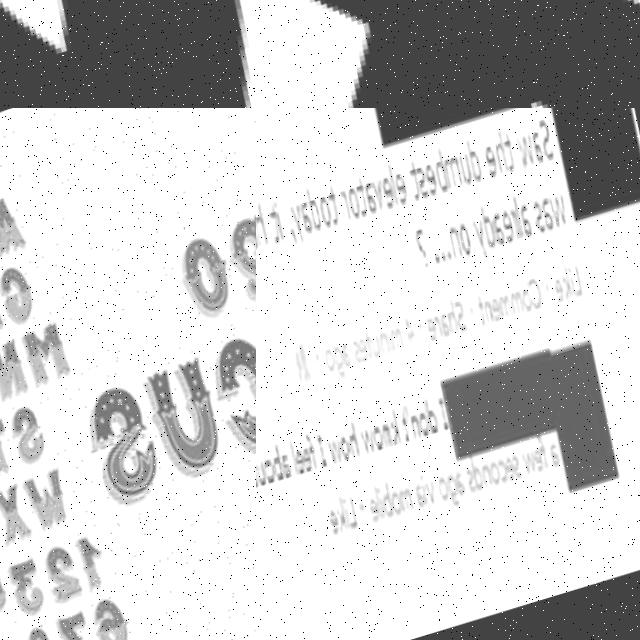1: (82, 531, 120, 588)
2: (46, 538, 99, 603)
3: (12, 553, 63, 615)
4: (0, 570, 27, 630), (405, 312, 426, 350)
6: (95, 591, 149, 640)
7: (62, 605, 115, 640)
8: (30, 622, 79, 640)
A: (490, 206, 513, 249), (517, 200, 540, 239), (539, 196, 561, 233), (362, 178, 384, 214), (299, 198, 320, 234), (530, 128, 551, 164), (418, 476, 439, 511), (552, 440, 572, 469), (458, 469, 477, 498), (343, 339, 361, 368), (285, 450, 303, 479), (441, 312, 459, 339), (256, 213, 264, 249)
B: (429, 146, 455, 195), (274, 441, 296, 482), (385, 481, 406, 519)
C: (527, 271, 552, 312), (501, 456, 518, 483)
D: (304, 184, 330, 233), (463, 136, 489, 183), (479, 203, 504, 250), (474, 453, 497, 494), (427, 395, 450, 435)
E: (379, 174, 401, 210), (482, 143, 504, 179), (393, 170, 415, 206), (500, 209, 522, 245), (422, 161, 443, 197), (334, 509, 353, 538), (306, 444, 324, 473), (538, 445, 556, 474), (374, 496, 392, 525), (555, 277, 573, 304), (509, 455, 527, 482), (362, 336, 379, 364), (493, 295, 509, 324), (430, 316, 447, 343), (300, 449, 317, 476)
F: (541, 432, 561, 471), (309, 431, 329, 468)
G: (335, 344, 356, 381), (451, 472, 471, 509)
H: (488, 127, 514, 174), (349, 418, 371, 459), (256, 200, 274, 246), (448, 299, 467, 337)
I: (440, 395, 460, 433), (272, 198, 290, 240), (381, 483, 400, 520), (387, 319, 404, 355), (321, 434, 339, 468), (424, 471, 441, 507), (346, 495, 363, 531), (569, 265, 584, 298)
K: (339, 493, 361, 533), (391, 407, 411, 446), (561, 264, 579, 300)
L: (385, 160, 404, 206), (512, 197, 530, 238), (572, 263, 591, 297), (293, 437, 310, 475), (378, 482, 395, 520), (352, 496, 370, 530)
M: (442, 152, 468, 189), (499, 292, 522, 321), (392, 326, 412, 354), (512, 290, 532, 318), (406, 488, 425, 512)
N: (448, 225, 469, 261), (484, 299, 501, 326), (381, 330, 398, 357), (386, 421, 403, 448), (414, 412, 431, 439), (486, 462, 503, 489)
O: (457, 220, 479, 257), (346, 184, 368, 220), (318, 193, 339, 229), (375, 423, 395, 452), (395, 488, 415, 517), (522, 286, 541, 315), (327, 346, 346, 375), (494, 458, 513, 487), (343, 431, 361, 460), (422, 410, 440, 437), (269, 456, 287, 483), (444, 476, 460, 501)
R: (338, 186, 357, 221), (508, 206, 527, 240), (436, 314, 451, 341)
S: (535, 118, 561, 165), (455, 296, 477, 335), (413, 162, 434, 198), (531, 198, 552, 233), (355, 338, 371, 367), (517, 451, 532, 478), (472, 468, 487, 495)
T: (403, 155, 429, 204), (323, 180, 349, 227), (497, 126, 522, 172), (352, 172, 377, 218), (266, 197, 288, 243), (364, 325, 384, 362), (476, 291, 495, 328), (403, 406, 421, 442), (256, 453, 271, 490), (256, 457, 261, 491)
U: (457, 152, 477, 185), (373, 333, 390, 360), (260, 459, 277, 486)
V: (0, 0, 256, 108), (370, 176, 392, 213), (430, 480, 447, 504)
W: (547, 190, 574, 230), (514, 131, 541, 169), (363, 421, 389, 459), (330, 435, 355, 466), (527, 450, 546, 475)
X: (256, 0, 640, 108)
Y: (471, 215, 497, 262), (289, 201, 313, 244)
